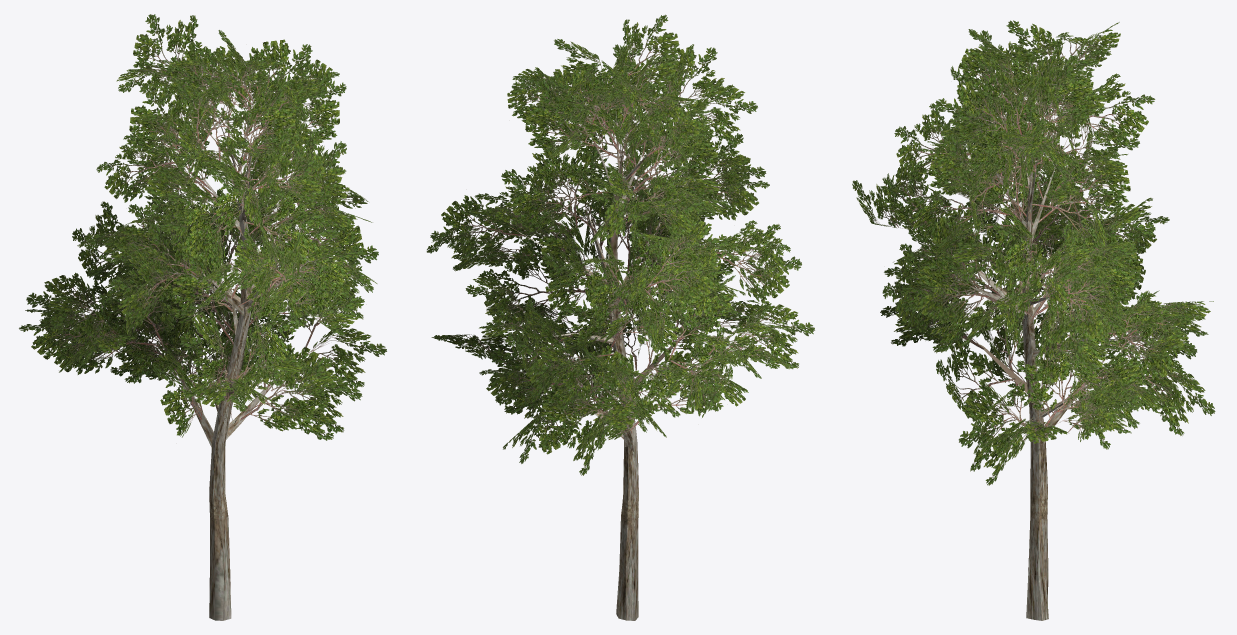
Rendered from arbol_ligero_1.obj.
3 renders of one model, left to right at view 1: azimuth 30°, elevation 25°; view 2: azimuth 150°, elevation 25°; view 3: azimuth 270°, elevation 25°, orthographic.
Visible parts, largest first — view 1: arbol_ligero_1; view 2: arbol_ligero_1; view 3: arbol_ligero_1.
Boxes of the visible parts, x1,y1,x2,y2 form: arbol_ligero_1: (19,14,386,620); arbol_ligero_1: (426,14,814,620); arbol_ligero_1: (852,20,1215,620).
Size of the model in its own units: 5.02 by 8 by 4.64.
